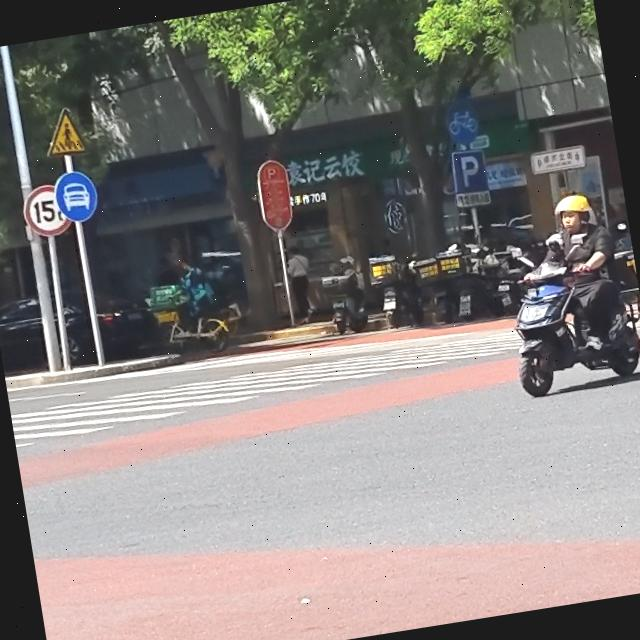curb: (5, 355, 184, 391), (241, 322, 339, 346), (368, 316, 389, 331)
